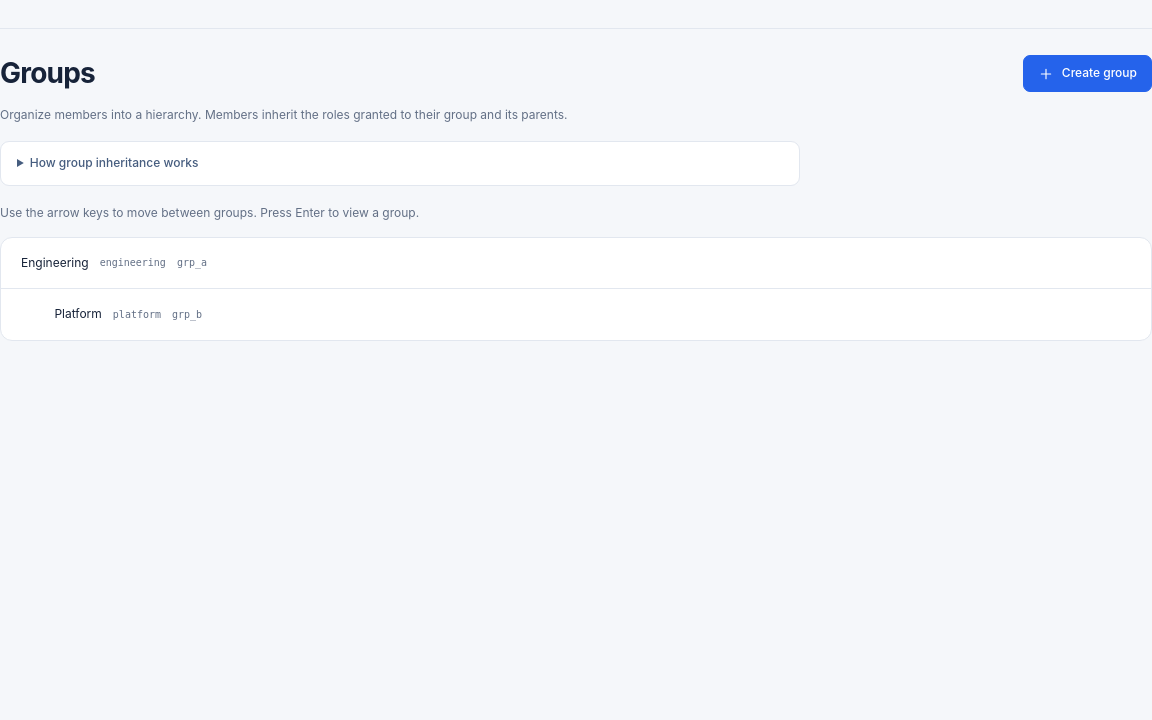
Scenario: one group › moves the group through the dedicated parent operation
Click the button "Platform": (78, 314) [54, 305, 102, 324]
(page scrolled)
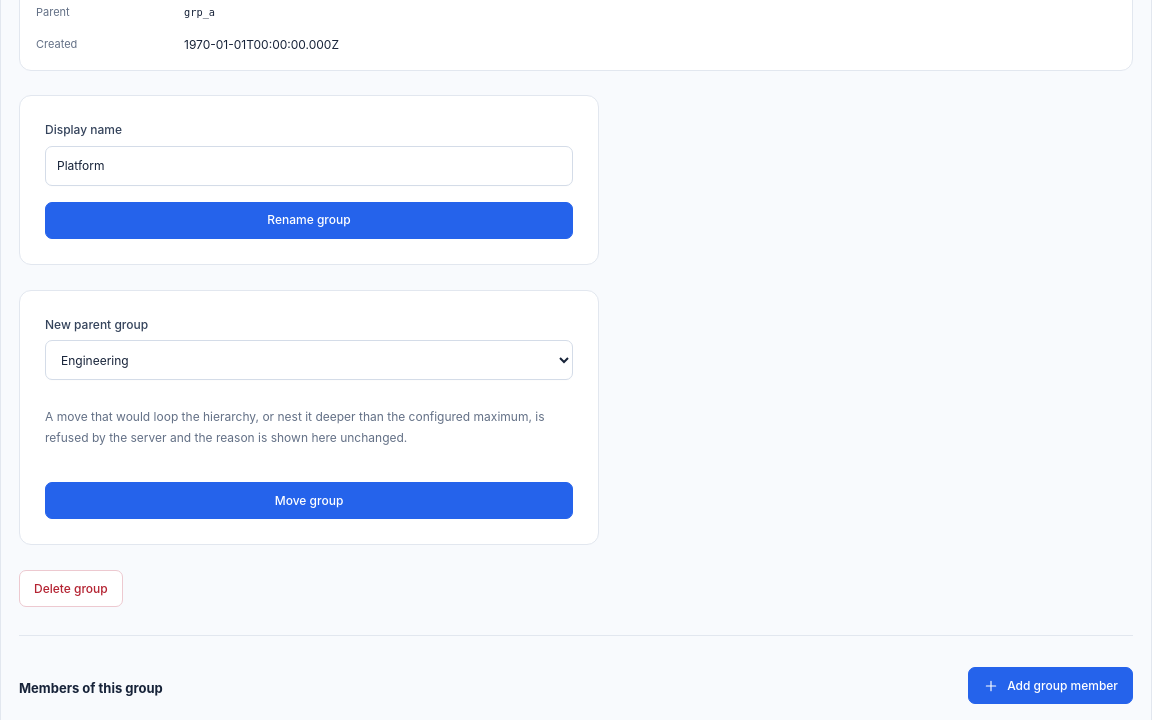
Select "No parent, a top level group" in the dropdown with id "org-group-move-parent": (309, 360) [45, 340, 573, 380]
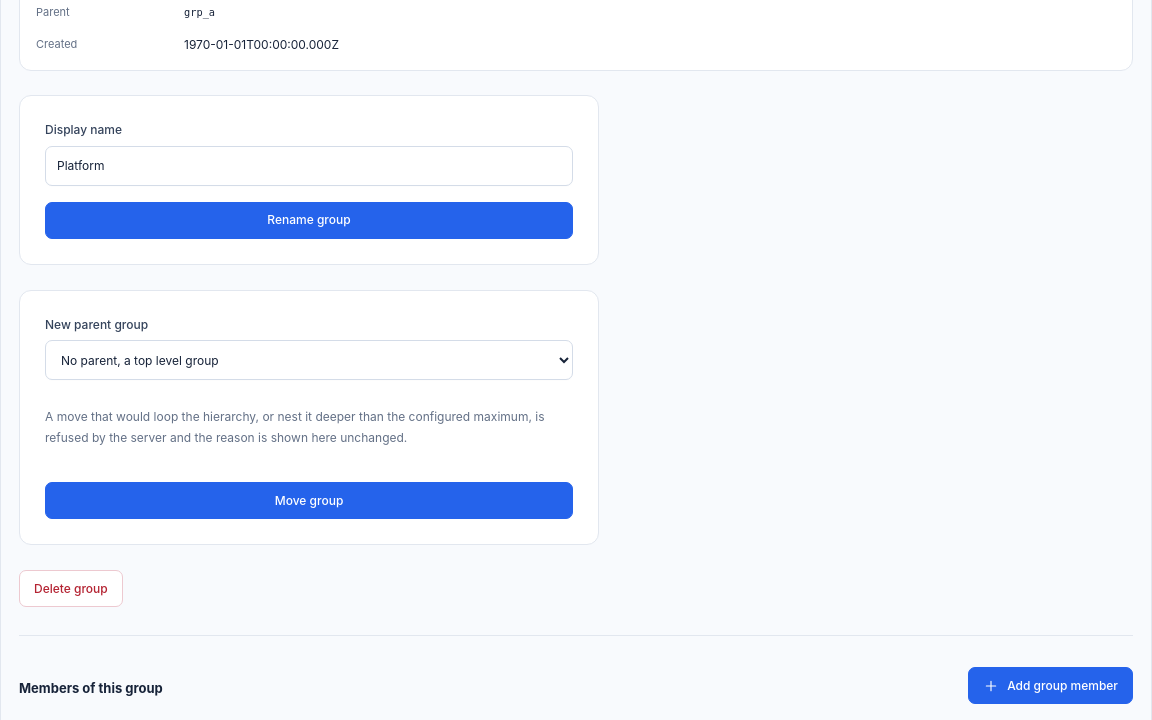
Click the button "Move group": (309, 501) [45, 482, 573, 519]
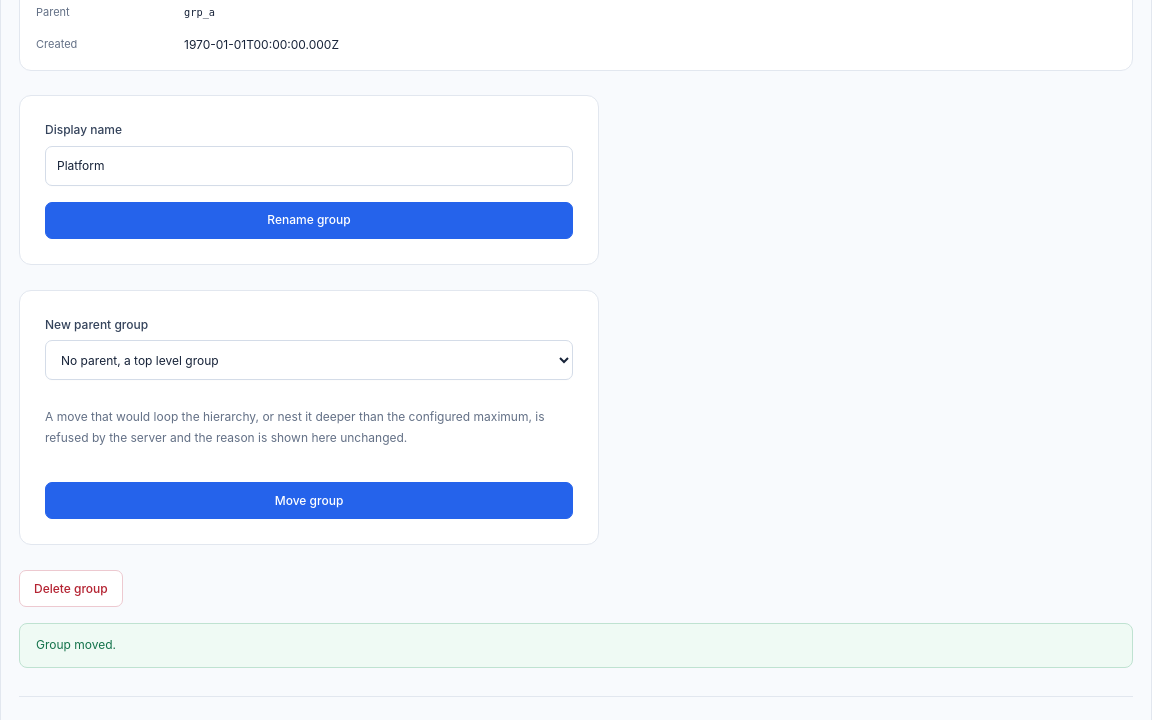
Expected: the text "Group moved." is shown, [19, 623, 1133, 668]
